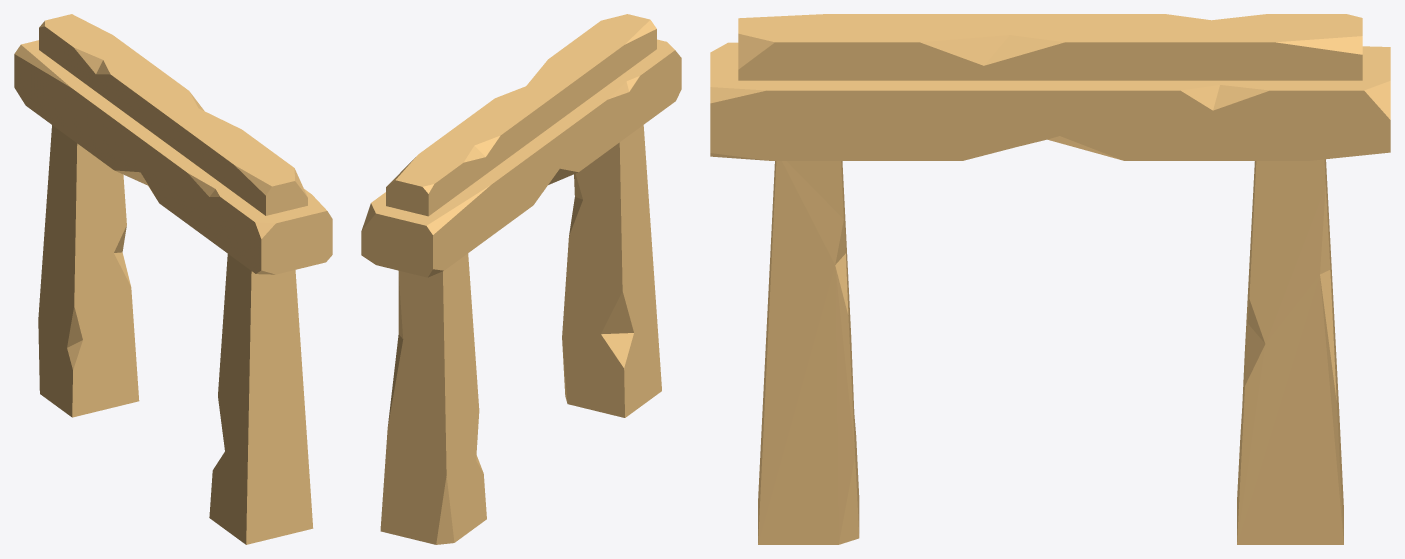
3 views of the same model, side by side, from view 1: azimuth 30°, elevation 25°; view 2: azimuth 150°, elevation 25°; view 3: azimuth 270°, elevation 25° (orthographic). The views are drawn at different scales.
Visible parts, largest first — view 1: Box001; view 2: Box001; view 3: Box001.
Part boxes in pixels (<box>): Box001: <box>14,14,332,544</box>; Box001: <box>361,14,681,544</box>; Box001: <box>710,14,1390,544</box>.
Bounding box in the file's own units: 5.6 × 27.01 × 33.67.
Materials: 1 (1 with a texture image).
